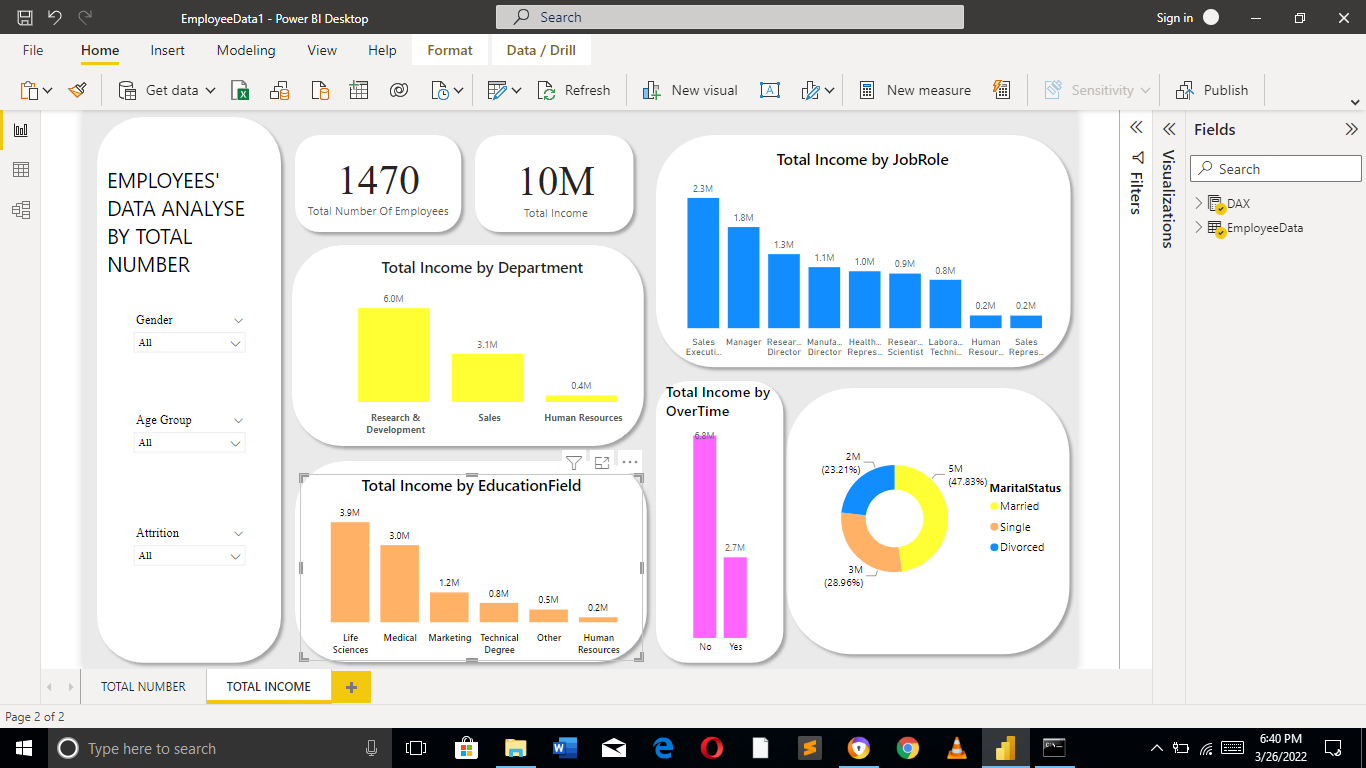

This screenshot's page, from the dashboard's own definition file:
{"tool":"powerbi","page":{"name":"TOTAL INCOME","canvas":[1280,720],"ordinal":1},"visuals":[{"type":"shape","box":[260.3,165.5,471,277.2],"z":0},{"type":"shape","box":[9.6,0,254.6,721.2],"z":1000},{"type":"shape","box":[264.5,22.6,232,142.9],"z":2000},{"type":"card","fields":{"Values":["DAX.Total Number Of Employee"]},"box":[277.2,36.8,206.5,114.6],"z":3000},{"type":"shape","box":[496.5,22.6,222.1,142.9],"z":4000},{"type":"card","fields":{"Values":["DAX.Total Income"]},"box":[499.3,28.3,219.2,137.2],"z":5000},{"type":"shape","box":[728.5,22.6,551.7,316.9],"z":6000},{"type":"clusteredColumnChart","fields":{"Category":["EmployeeData.Department"],"Y":["DAX.Total Income"]},"box":[281.5,188.1,464,239.1],"z":7000},{"type":"shape","box":[264.5,442.8,471,277.2],"z":8000},{"type":"clusteredColumnChart","fields":{"Category":["EmployeeData.JobRole"],"Y":["DAX.Total Income"]},"box":[745.5,49.5,516.3,277.2],"z":9000},{"type":"clusteredColumnChart","fields":{"Category":["EmployeeData.EducationField"],"Y":["DAX.Total Income"]},"box":[280.1,468.2,441.3,241.9],"z":10000},{"type":"shape","box":[896.8,349.4,383.3,360.7],"z":11000},{"type":"donutChart","fields":{"Category":["EmployeeData.MaritalStatus"],"Y":["DAX.Total Income"]},"box":[918,360.7,362.1,331],"z":12000},{"type":"shape","box":[728.5,339.5,182.5,380.5],"z":13000},{"type":"slicer","fields":{"Values":["EmployeeData.Gender"]},"box":[55.2,256,164.1,83.5],"z":14000},{"type":"slicer","fields":{"Values":["EmployeeData.Age Group"]},"box":[55.2,384.8,164.1,83.5],"z":15000},{"type":"slicer","fields":{"Values":["EmployeeData.Attrition"]},"box":[55.2,530.5,164.1,83.5],"z":16000},{"type":"columnChart","fields":{"Category":["EmployeeData.OverTime"],"Y":["DAX.Total Income"]},"box":[745.5,349.4,151.3,360.7],"z":17000},{"type":"textbox","box":[25.5,66.5,222.1,155.6],"z":18000}]}

Visuals, with their boxes on the page's 1280x720 design canvas (x1, y1, x2, y2). These are canvas units, not pixel positions in the 1366x768 screenshot, which may show the page scaled, cropped or inside an application window:
shape: (left=260, top=166, right=731, bottom=443)
shape: (left=10, top=0, right=264, bottom=721)
shape: (left=264, top=23, right=496, bottom=166)
card - DAX.Total Number Of Employee: (left=277, top=37, right=484, bottom=151)
shape: (left=496, top=23, right=719, bottom=166)
card - DAX.Total Income: (left=499, top=28, right=718, bottom=166)
shape: (left=728, top=23, right=1280, bottom=340)
clusteredColumnChart - EmployeeData.Department x DAX.Total Income: (left=282, top=188, right=746, bottom=427)
shape: (left=264, top=443, right=736, bottom=720)
clusteredColumnChart - EmployeeData.JobRole x DAX.Total Income: (left=746, top=50, right=1262, bottom=327)
clusteredColumnChart - EmployeeData.EducationField x DAX.Total Income: (left=280, top=468, right=721, bottom=710)
shape: (left=897, top=349, right=1280, bottom=710)
donutChart - EmployeeData.MaritalStatus x DAX.Total Income: (left=918, top=361, right=1280, bottom=692)
shape: (left=728, top=340, right=911, bottom=720)
slicer - EmployeeData.Gender: (left=55, top=256, right=219, bottom=340)
slicer - EmployeeData.Age Group: (left=55, top=385, right=219, bottom=468)
slicer - EmployeeData.Attrition: (left=55, top=530, right=219, bottom=614)
columnChart - EmployeeData.OverTime x DAX.Total Income: (left=746, top=349, right=897, bottom=710)
textbox: (left=26, top=66, right=248, bottom=222)
